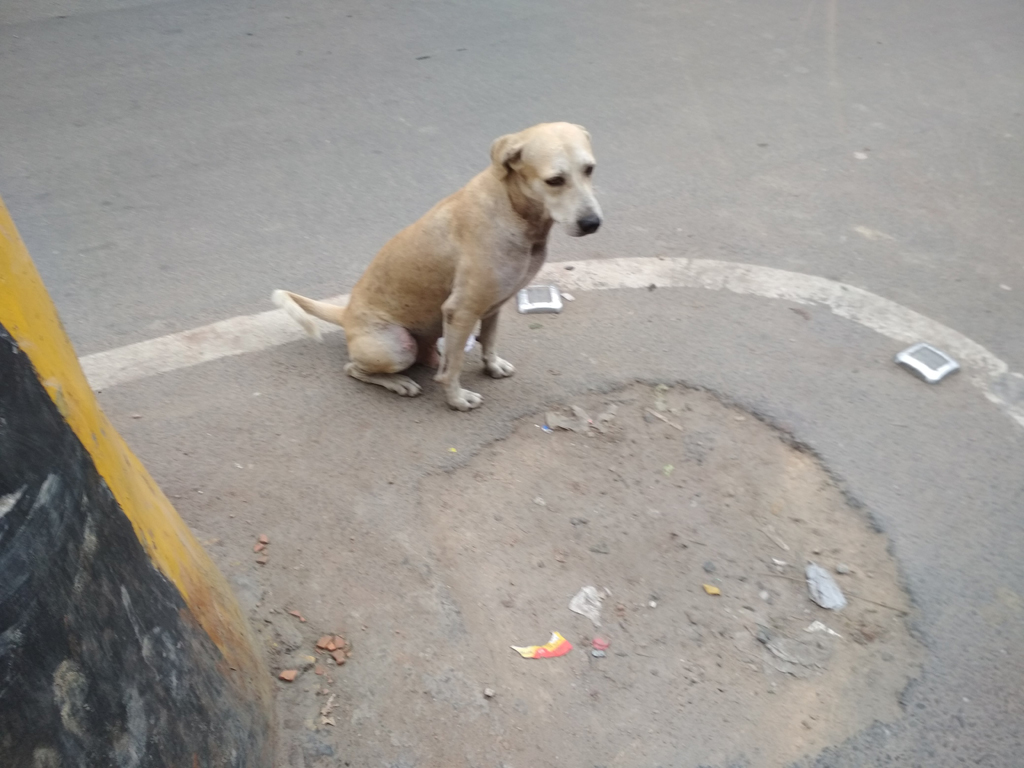dog: (272, 122, 607, 413)
